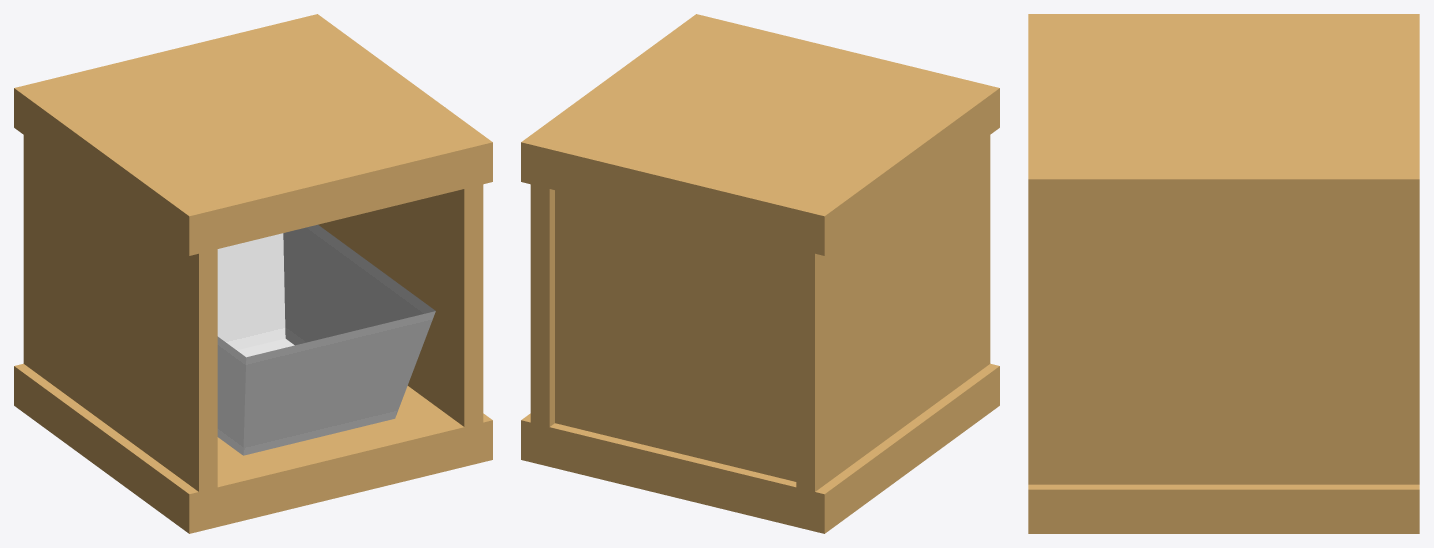
The model's file is cubby.gltf.
The picture shows the model from 3 angles, left to right: view 1: azimuth 30°, elevation 25°; view 2: azimuth 150°, elevation 25°; view 3: azimuth 270°, elevation 25°; orthographic projection. The views are drawn at different scales.
Visible parts, largest first — view 1: mesh (×4), plane; view 2: mesh (×5); view 3: mesh (×3).
Part boxes in pixels (x1=…): mesh (×4): x1=14, y1=14, x2=492, y2=533; plane: x1=217, y1=224, x2=435, y2=455; mesh (×5): x1=521, y1=14, x2=999, y2=533; mesh (×3): x1=1028, y1=14, x2=1419, y2=533.
Bounding box in the file's own units: 0.5 × 0.5 × 0.5.
2 materials, 2 textured.
